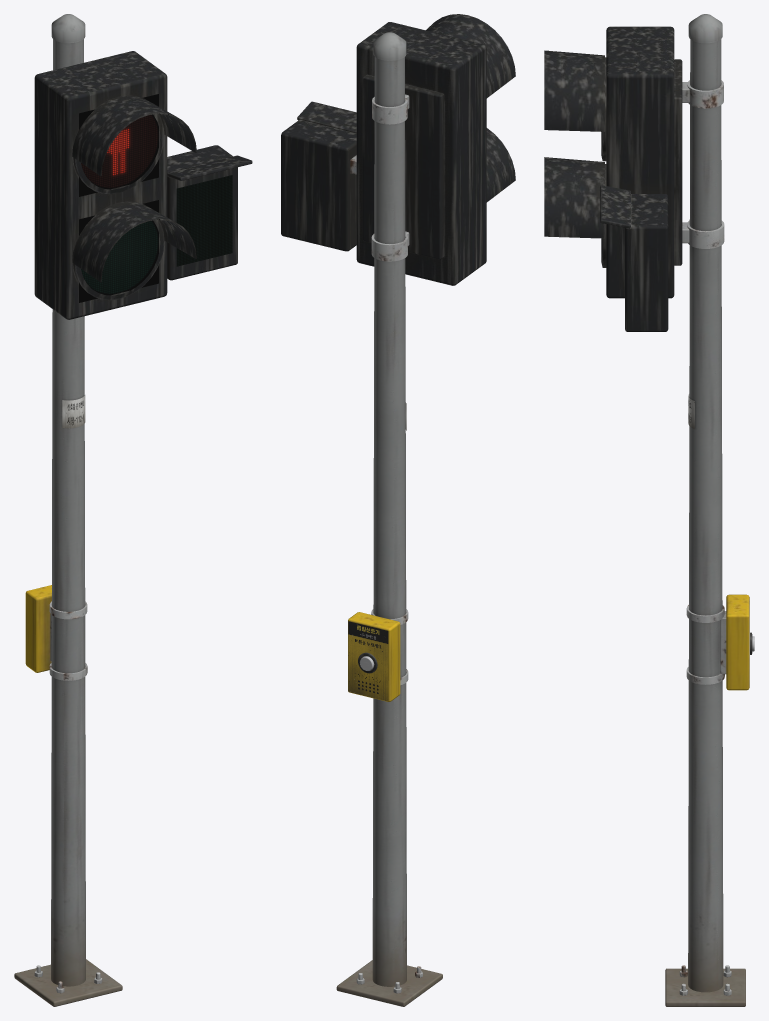
Rendered from StreetCrosswalkSignal.fbx.
The picture shows the model from 3 angles, left to right: view 1: azimuth 30°, elevation 25°; view 2: azimuth 150°, elevation 25°; view 3: azimuth 270°, elevation 25°; orthographic projection. The views are drawn at different scales.
Visible parts, largest first — view 1: StreetCrosswalkSignal_Body, StreetCrosswalkSignal_Count, StreetCrosswalkSignal_LampGreen, StreetCrosswalkSignal_LampRed; view 2: StreetCrosswalkSignal_Body; view 3: StreetCrosswalkSignal_Body.
Boxes of the visible parts, x1,y1,x2,y2 form: StreetCrosswalkSignal_Body: [14, 14, 252, 1006]; StreetCrosswalkSignal_Count: [176, 175, 232, 266]; StreetCrosswalkSignal_LampGreen: [79, 200, 158, 302]; StreetCrosswalkSignal_LampRed: [79, 94, 158, 196]; StreetCrosswalkSignal_Body: [281, 14, 515, 1006]; StreetCrosswalkSignal_Body: [544, 14, 752, 1006].
Bounding box in the file's own units: 0.685 × 3.47 × 0.679.
